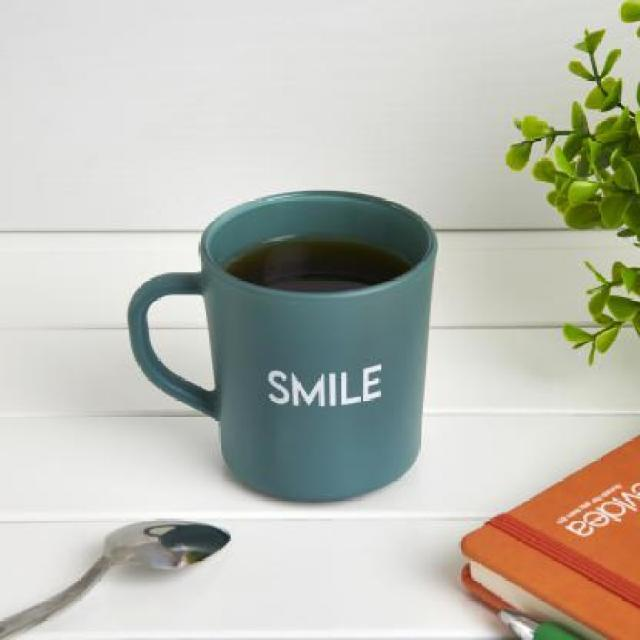taza: (125, 191, 438, 506)
